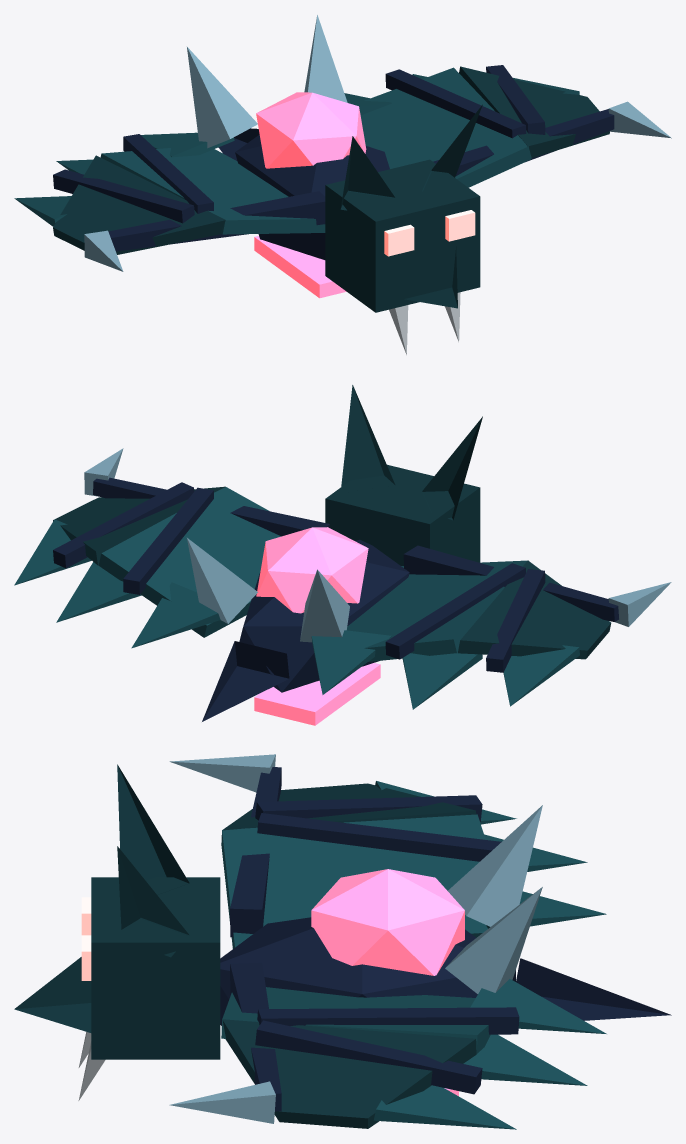
The model's file is kamikaze.glb.
The picture shows the model from 3 angles, top to bottom: view 1: azimuth 30°, elevation 25°; view 2: azimuth 150°, elevation 25°; view 3: azimuth 270°, elevation 25°; orthographic projection. The views are drawn at different scales.
Visible parts, largest first — view 1: IKamikazeHull, IKamikazeGlow; view 2: IKamikazeHull, IKamikazeGlow; view 3: IKamikazeHull, IKamikazeGlow.
Part boxes in pixels (x1,y1,x2,y2): IKamikazeHull: (14, 15, 671, 355); IKamikazeGlow: (254, 92, 475, 298); IKamikazeHull: (14, 385, 671, 721); IKamikazeGlow: (254, 527, 380, 725); IKamikazeHull: (14, 754, 671, 1129); IKamikazeGlow: (81, 869, 464, 1096).
Bounding box in the file's own units: 1.26 × 0.485 × 1.02.
